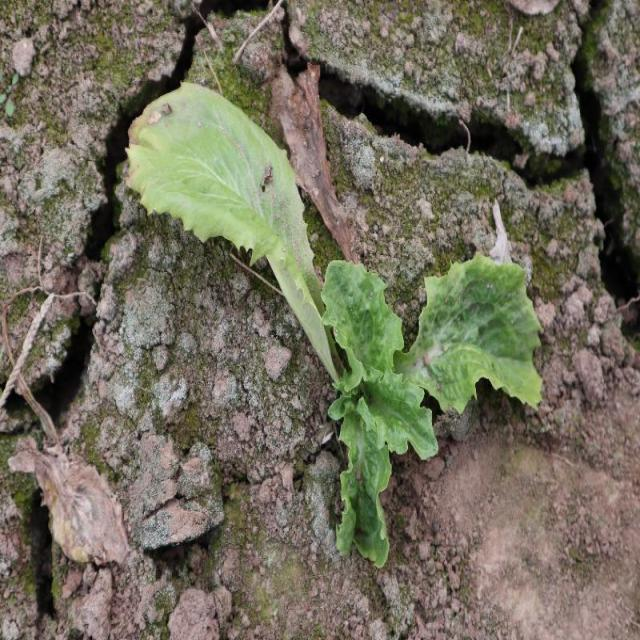crop: (318, 257, 541, 571)
